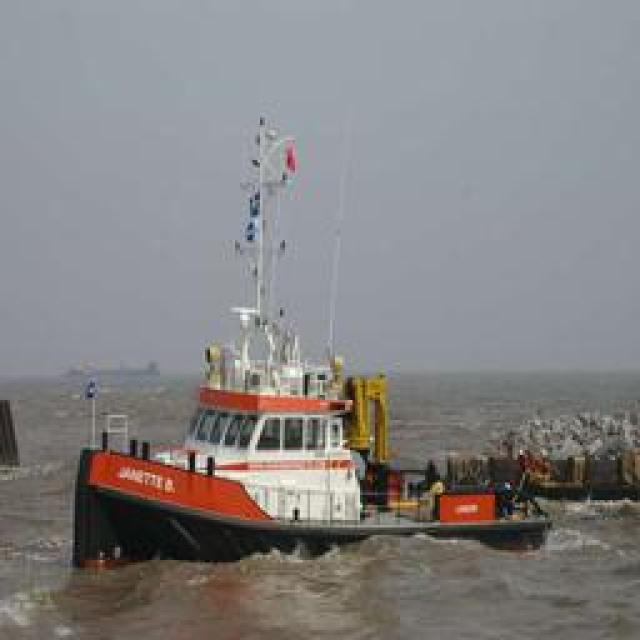ship: (66, 225, 562, 550)
